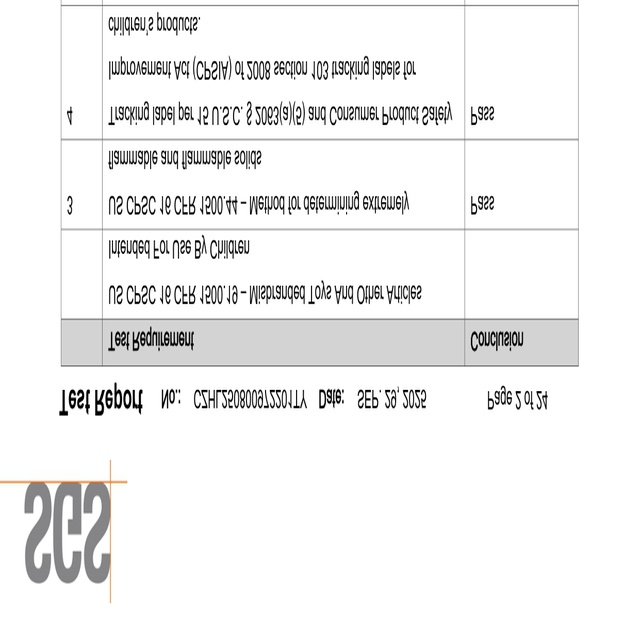sgs: (24, 482, 112, 585)
